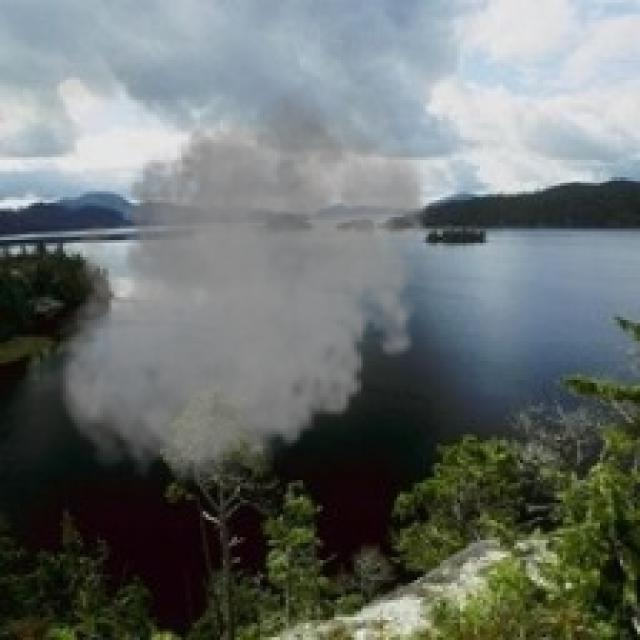smoke: (54, 72, 440, 494)
